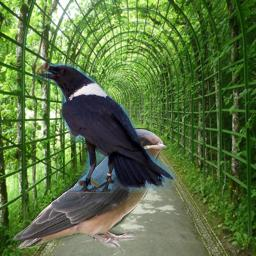Crow: (32, 63, 175, 193)
Swallow: (11, 128, 168, 255)
